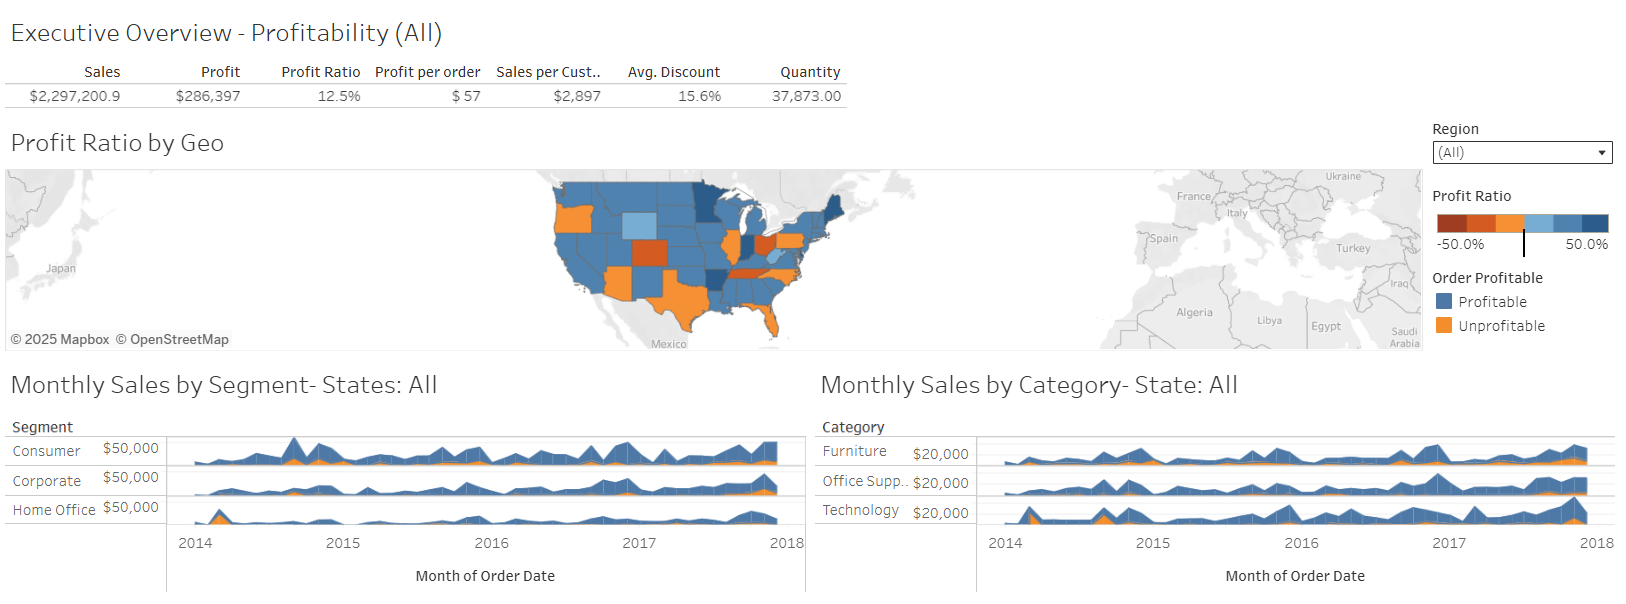

What the dashboard file says about the page in this screenshot:
{"tool":"tableau","page":{"name":"Executive Overview","canvas":[1000,1000],"units":"permille","ordinal":0},"visuals":[{"type":"worksheet","title":"Key Performance Indicator","mark":"Automatic","box":[4.2,10.7,991.5,151.5]},{"type":"worksheet","title":"Profit Ratio by Geography","mark":"Automatic","box":[4.2,162.2,906.5,402.1]},{"type":"filter","title":"Profit Ratio by Geography","param":"[federated.0ofpux415d16431cxf1290f7ckhp].[none:Region:nk]","box":[910.7,162.2,85,93.8]},{"type":"filter","title":"Sales by Category","param":"[federated.0ofpux415d16431cxf1290f7ckhp].[none:Order Date:qk]","box":[910.7,256,85,102.8]},{"type":"filter","title":"Profit Ratio by Geography","param":"[federated.0ofpux415d16431cxf1290f7ckhp].[usr:Calculation_1423700456453038081:qk","box":[910.7,358.8,85,102.8]},{"type":"legend","title":"Profit Ratio by Geography","param":"[federated.0ofpux415d16431cxf1290f7ckhp].[usr:Calculation_1423700456453038081:qk","box":[910.7,461.6,85,102.8]},{"type":"worksheet","title":"Sales by Category","mark":"Area","rows":["Category","Sales"],"cols":["Order Date"],"box":[4.2,564.3,495.8,424.9]},{"type":"worksheet","title":"Sales by Segment","mark":"Area","rows":["Segment","Sales"],"cols":["Order Date"],"box":[500,564.3,495.8,424.9]}]}

Visuals, with their boxes on the dashboard's canvas, which has no fixed pixel size, in thousandths of its width and height (x1, y1, x2, y2). These are canvas units, not pixel positions in the 1626x604 screenshot, which may show the page scaled, cropped or inside an application window:
"Key Performance Indicator" worksheet: (4,11,996,162)
"Profit Ratio by Geography" worksheet: (4,162,911,564)
"Profit Ratio by Geography" filter: (911,162,996,256)
"Sales by Category" filter: (911,256,996,359)
"Profit Ratio by Geography" filter: (911,359,996,462)
"Profit Ratio by Geography" legend: (911,462,996,564)
"Sales by Category" worksheet (Area marks): (4,564,500,989)
"Sales by Segment" worksheet (Area marks): (500,564,996,989)
